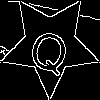Q: (25, 19, 75, 78)
